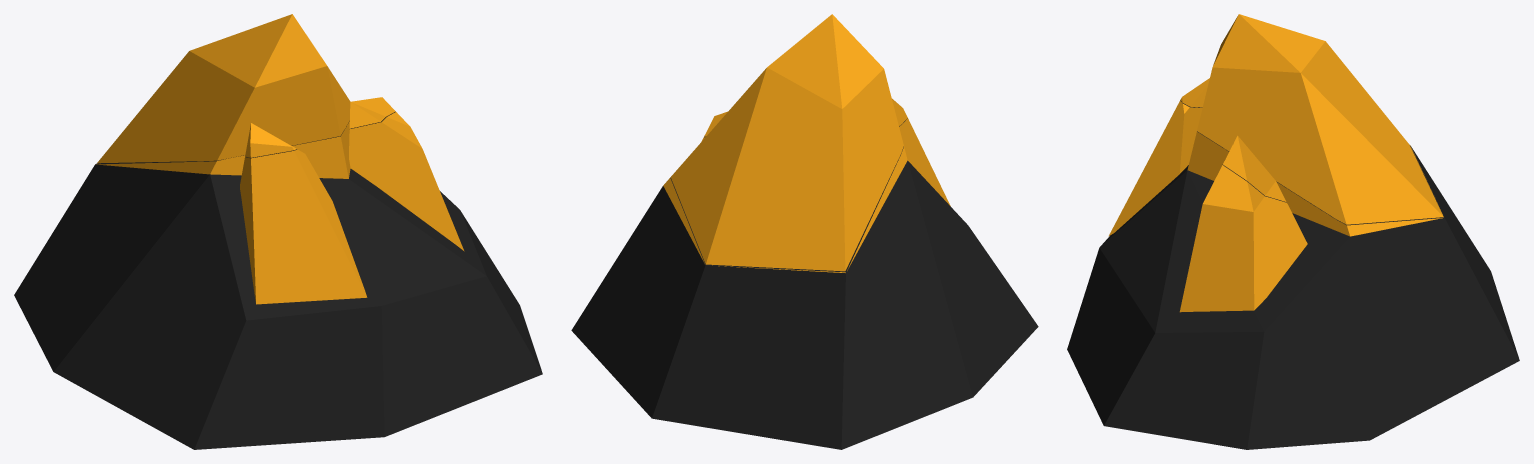
Rendered from GoldBreak.fbx.
The picture shows the model from 3 angles, left to right: view 1: azimuth 30°, elevation 25°; view 2: azimuth 150°, elevation 25°; view 3: azimuth 270°, elevation 25°; orthographic projection. The views are drawn at different scales.
Parts seen in each view (by area): view 1: GoldBreak_cell.001, GoldBreak_cell, GoldBreak_cell.005, GoldBreak_cell.004, GoldBreak_cell.002, GoldBreak_cell.003; view 2: GoldBreak_cell.001, GoldBreak_cell, GoldBreak_cell.005; view 3: GoldBreak_cell.001, GoldBreak_cell, GoldBreak_cell.004, GoldBreak_cell.005, GoldBreak_cell.002, GoldBreak_cell.003.
Boxes of the visible parts, x1,y1,x2,y2 form: GoldBreak_cell.001: [14, 121, 542, 449]; GoldBreak_cell: [97, 14, 350, 163]; GoldBreak_cell.005: [240, 149, 367, 304]; GoldBreak_cell.004: [349, 111, 464, 251]; GoldBreak_cell.002: [349, 97, 395, 128]; GoldBreak_cell.003: [245, 123, 296, 157]; GoldBreak_cell.001: [571, 146, 1038, 449]; GoldBreak_cell: [670, 14, 903, 271]; GoldBreak_cell.005: [899, 118, 950, 206]; GoldBreak_cell.001: [1067, 131, 1519, 449]; GoldBreak_cell: [1197, 14, 1443, 224]; GoldBreak_cell.004: [1179, 157, 1307, 312]; GoldBreak_cell.005: [1108, 100, 1202, 236]; GoldBreak_cell.002: [1223, 135, 1286, 201]; GoldBreak_cell.003: [1180, 78, 1209, 107].
Bounding box in the file's own units: 2.32 × 1.84 × 2.26.
